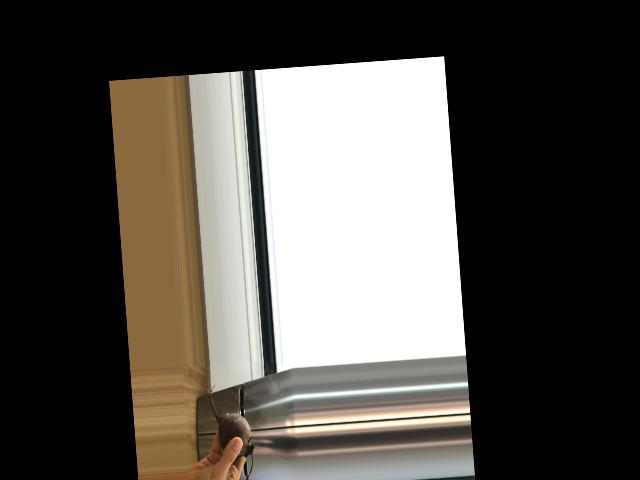beet: (209, 381, 256, 480)
